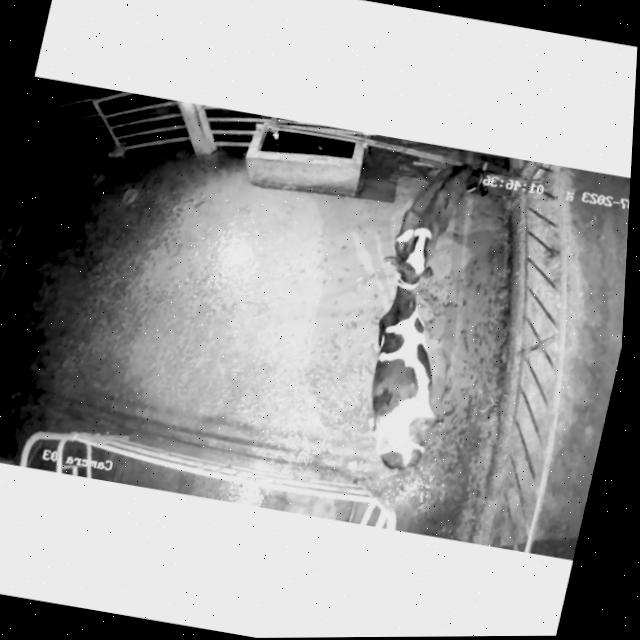propping: (361, 193, 466, 313)
